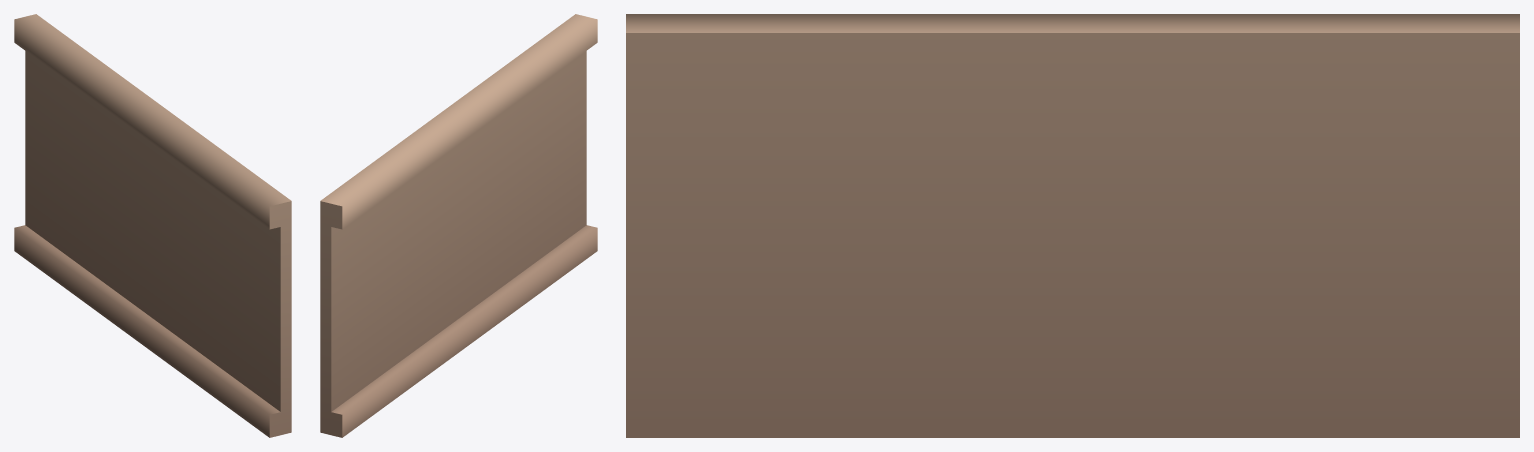
The model's file is baseboard-detailed-high (%wall).glb.
The picture shows the model from 3 angles, left to right: view 1: azimuth 30°, elevation 25°; view 2: azimuth 150°, elevation 25°; view 3: azimuth 270°, elevation 25°; orthographic projection. The views are drawn at different scales.
Visible parts, largest first — view 1: baseboard-detailed-high (%wall); view 2: baseboard-detailed-high (%wall); view 3: baseboard-detailed-high (%wall).
Boxes of the visible parts, bbox=[...] form: baseboard-detailed-high (%wall): bbox=[14, 14, 291, 437]; baseboard-detailed-high (%wall): bbox=[320, 14, 597, 437]; baseboard-detailed-high (%wall): bbox=[626, 14, 1519, 437].
Size of the model in its own units: 0.05 by 0.5 by 1.
